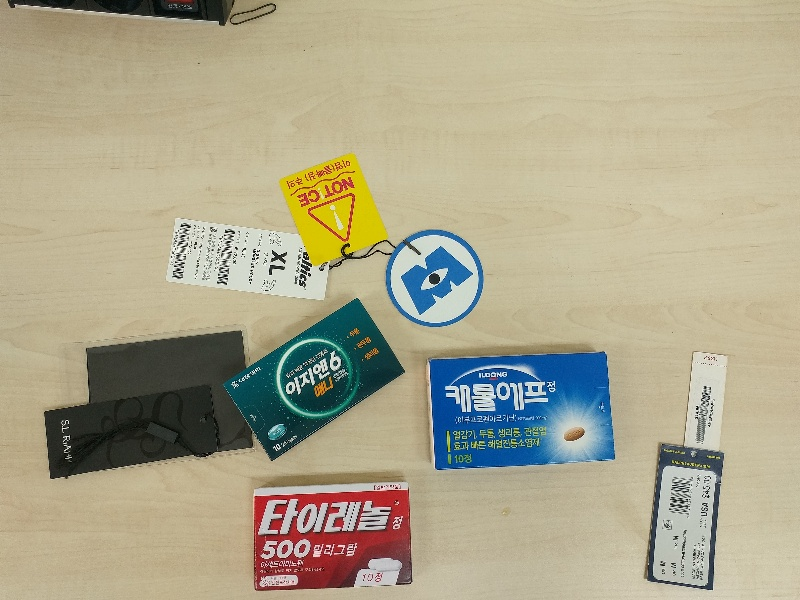carolF: (426, 351, 616, 471)
ezn: (223, 297, 407, 462)
tylenol: (252, 484, 416, 590)
